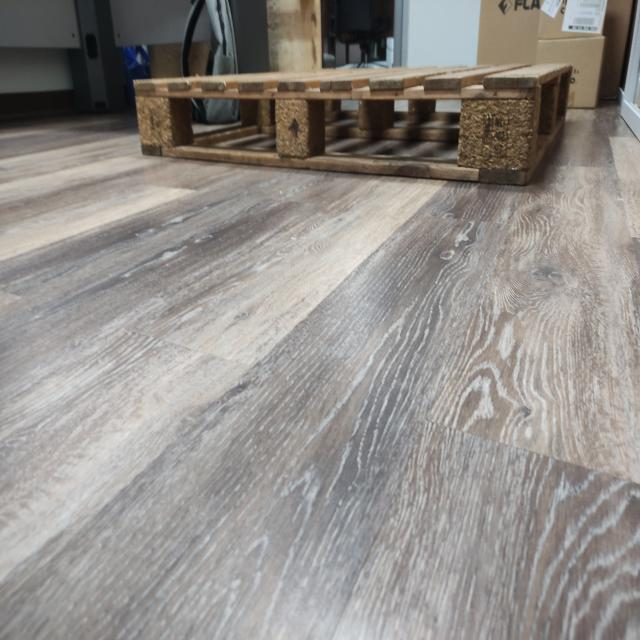block: (454, 78, 532, 182), (130, 79, 180, 162), (273, 83, 317, 168)
front: (128, 72, 534, 189)
